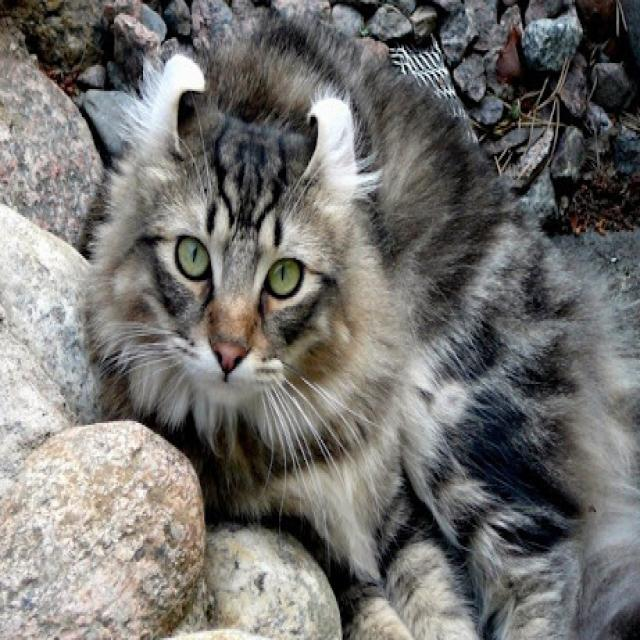American Curl: (73, 11, 640, 640)
